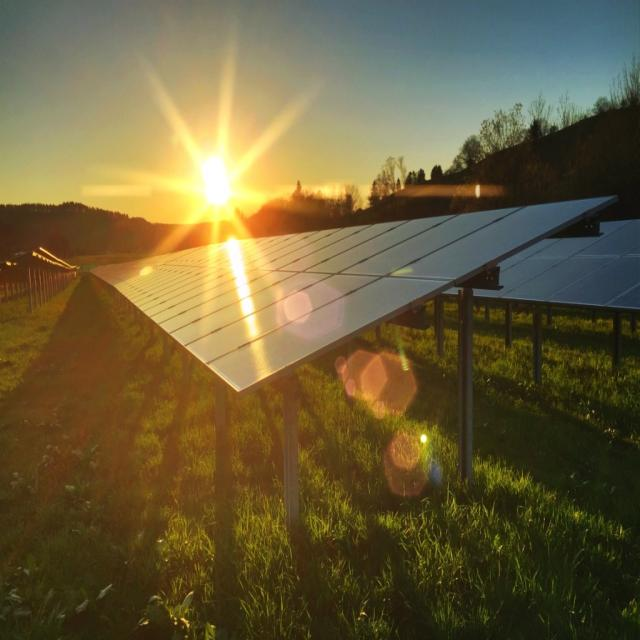dust-solar-panel: (97, 198, 615, 393)
